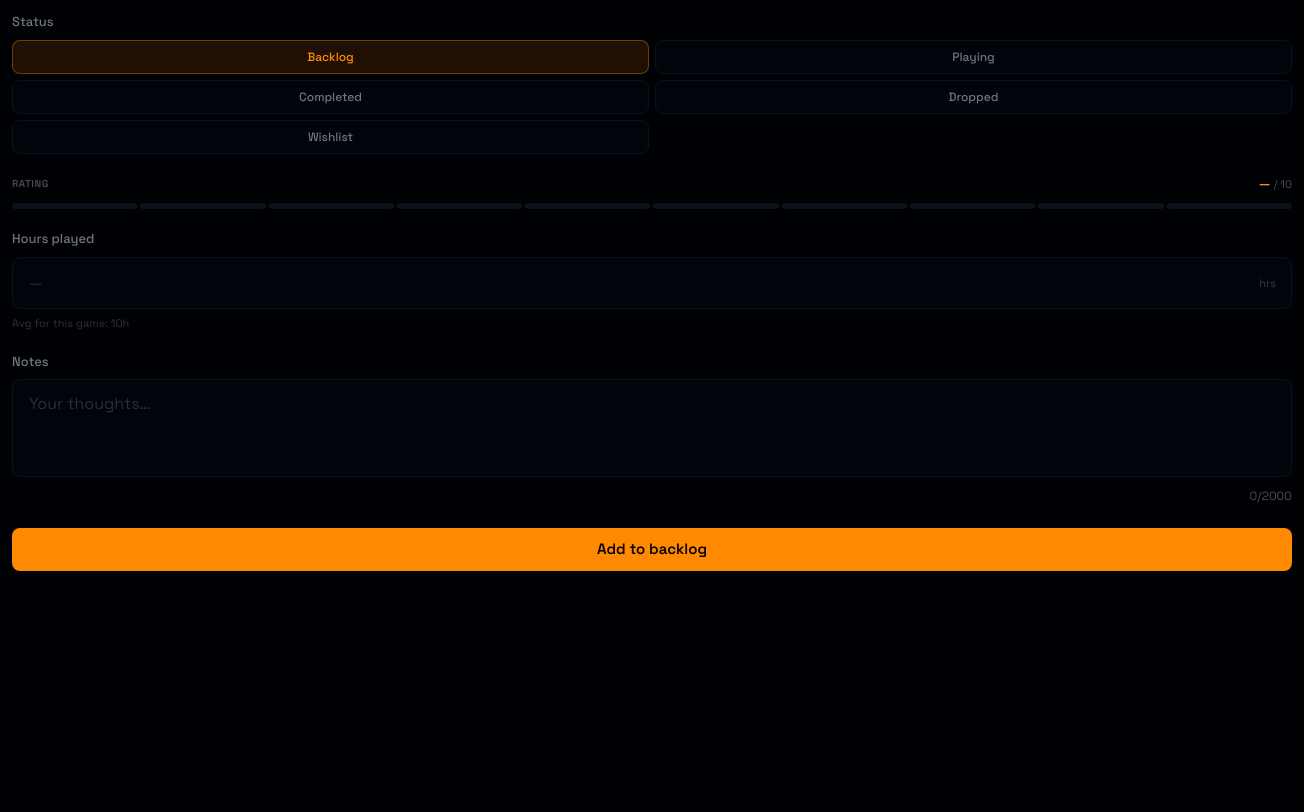
BacklogEntryForm › shows the hours-vs-average delta once an average exists
The width and height of the screenshot is (1304, 812).
Type "12" into the number field with placeholder "—" at (652, 283), box [12,256,1292,309]
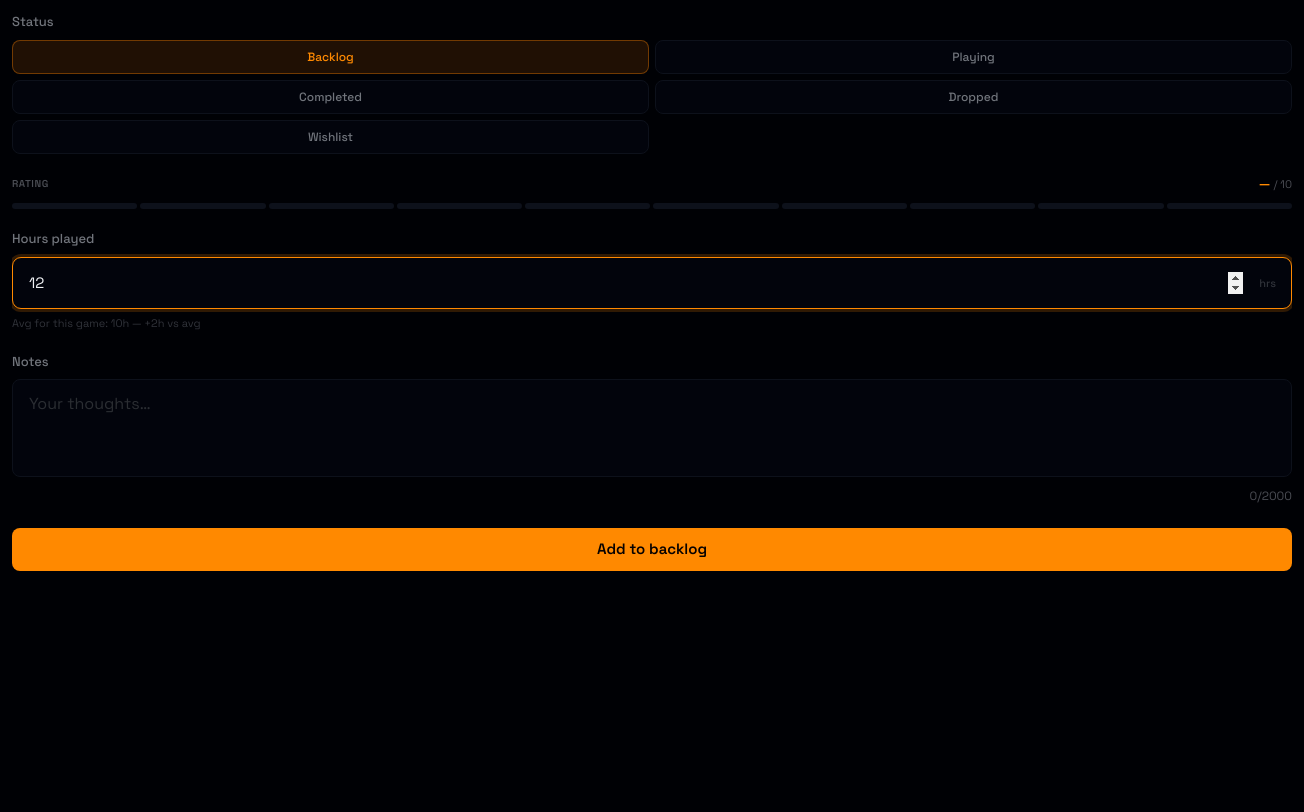
Expected: the text "Avg for this game: 10h — +2h vs avg" is shown, [12,316,200,330]
